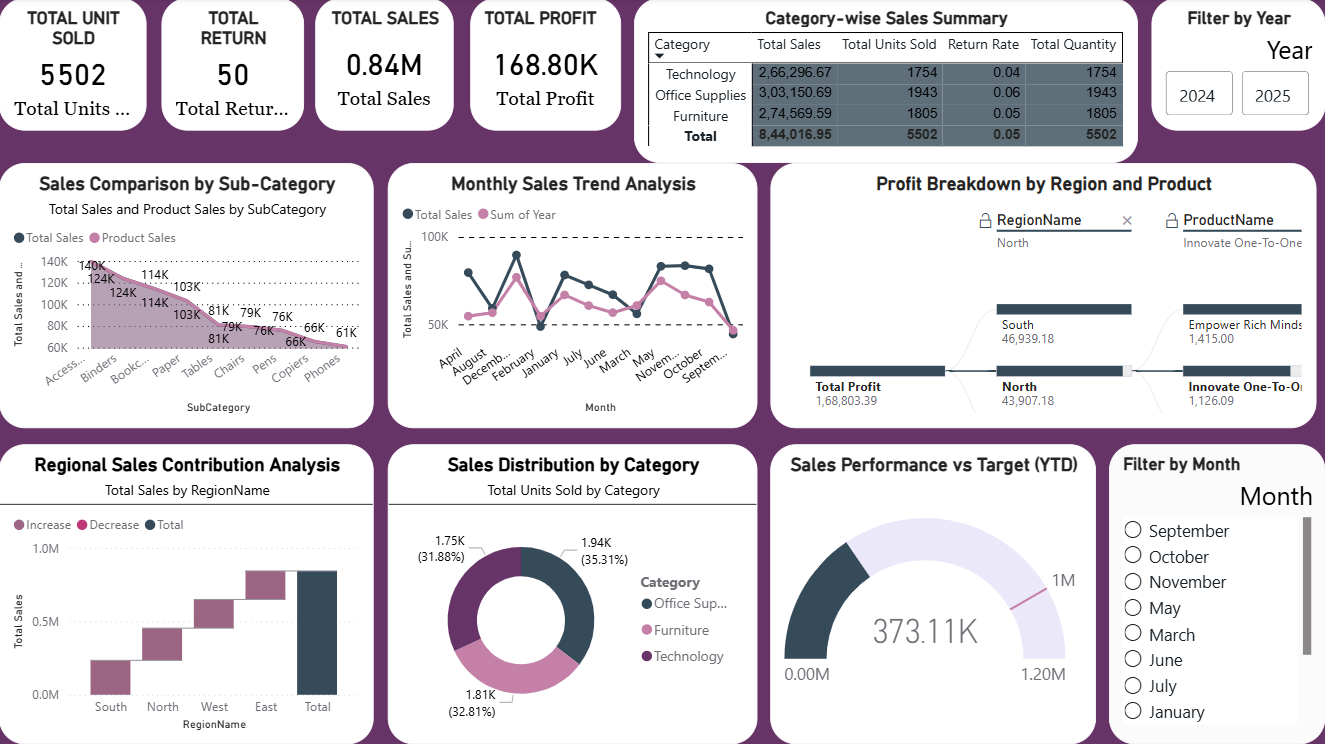

This screenshot's page, from the dashboard's own definition file:
{"tool":"powerbi","page":{"name":"Dashboard1","canvas":[1280,720],"ordinal":0},"visuals":[{"type":"card","title":"TOTAL UNIT SOLD","fields":{"Values":["Customer_Dim.Total Units Sold"]},"box":[0,0,142.4,127.9],"z":0},{"type":"card","title":"TOTAL SALES","fields":{"Values":["Customer_Dim.Total Sales"]},"box":[305.2,0,133.9,127.9],"z":1000},{"type":"card","title":"TOTAL RETURN","fields":{"Values":["Customer_Dim.Total Returns"]},"box":[156.8,0,137.5,127.9],"z":2000},{"type":"card","title":"TOTAL PROFIT","fields":{"Values":["Customer_Dim.Total Profit"]},"box":[454.8,0,146,127.9],"z":3000},{"type":"advancedSlicerVisual","title":"Filter by Year","fields":{"Values":["Date_Dim.Year"]},"box":[1112.3,0,167.7,127.9],"z":4000},{"type":"listSlicer","title":"Filter by Month","fields":{"Values":["Date_Dim.Month"]},"box":[1071.2,430.4,209.1,289.8],"z":5000},{"type":"areaChart","title":"Sales Comparison by Sub-Category","fields":{"Category":["Product_Dim.SubCategory"],"Y":["Customer_Dim.Total Sales","Customer_Dim.Product Sales"]},"box":[0,159.3,361.9,255.8],"z":6000},{"type":"lineChart","title":"Monthly Sales Trend Analysis","fields":{"Y":["Customer_Dim.Total Sales","Sum(Date_Dim.Year)"],"Category":["Date_Dim.Year Hierarchy.Year","Date_Dim.Year Hierarchy.Month","Date_Dim.Year Hierarchy.Quarter","Date_Dim.Year Hierarchy.Date"]},"box":[375.2,159.3,357.1,255.8],"z":7000},{"type":"donutChart","title":"Sales Distribution by Category","fields":{"Category":["Product_Dim.Category"],"Y":["Customer_Dim.Total Units Sold"]},"box":[375.4,430.4,357.1,289.8],"z":8000},{"type":"waterfallChart","title":"Regional Sales Contribution Analysis","fields":{"Category":["Region_Dim.RegionName"],"Y":["Customer_Dim.Total Sales"]},"box":[0,430.4,362,289.8],"z":9000},{"type":"pivotTable","title":"Category-wise Sales Summary","fields":{"Rows":["Product_Dim.Category"],"Values":["Customer_Dim.Total Sales","Customer_Dim.Total Units Sold","Customer_Dim.Return Rate","Customer_Dim.Total Quantity"]},"box":[612.9,0,486.2,159.3],"z":10000},{"type":"decompositionTreeVisual","title":"Profit Breakdown by Region and Product","fields":{"Analyze":["Customer_Dim.Total Profit"],"ExplainBy":["Region_Dim.RegionName","Product_Dim.ProductName","Customer_Dim.Segment"]},"box":[744.4,159.3,527.2,255.8],"z":11000},{"type":"gauge","title":"Sales Performance vs Target (YTD)","fields":{"Y":["Customer_Dim.Sales YTD"],"TargetValue":["Customer_Dim.Sales Target"],"MaxValue":["Customer_Dim.Max Gauge"]},"box":[744.7,430.4,314.3,289.8],"z":12000}]}

Visuals, with their boxes in screenshot pixels (x1, y1, x2, y2), scaled from the page's 1280x720 canvas onto the 1325x744 screenshot:
"TOTAL UNIT SOLD" card: region(0, 0, 147, 132)
"TOTAL SALES" card: region(316, 0, 455, 132)
"TOTAL RETURN" card: region(162, 0, 305, 132)
"TOTAL PROFIT" card: region(471, 0, 622, 132)
"Filter by Year" advancedSlicerVisual: region(1151, 0, 1324, 132)
"Filter by Month" listSlicer: region(1109, 445, 1324, 743)
"Sales Comparison by Sub-Category" areaChart: region(0, 165, 375, 429)
"Monthly Sales Trend Analysis" lineChart: region(388, 165, 758, 429)
"Sales Distribution by Category" donutChart: region(389, 445, 758, 743)
"Regional Sales Contribution Analysis" waterfallChart: region(0, 445, 375, 743)
"Category-wise Sales Summary" pivotTable: region(634, 0, 1138, 165)
"Profit Breakdown by Region and Product" decompositionTreeVisual: region(771, 165, 1316, 429)
"Sales Performance vs Target (YTD)" gauge: region(771, 445, 1096, 743)
